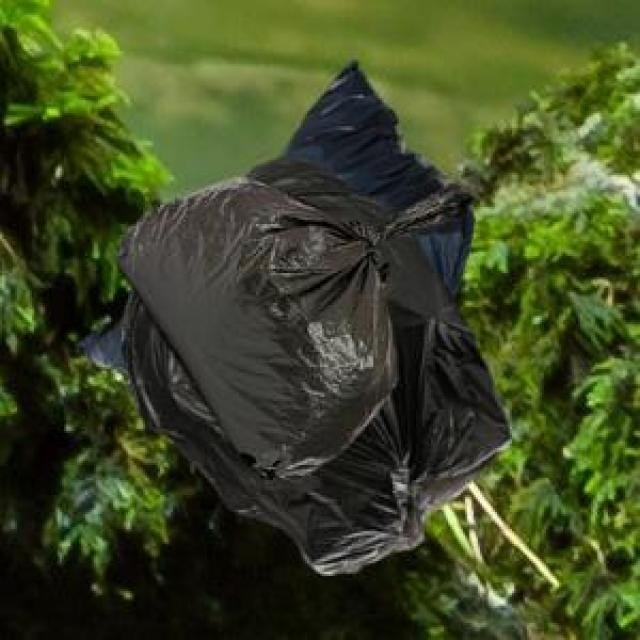Trashbag: (121, 182, 400, 464)
